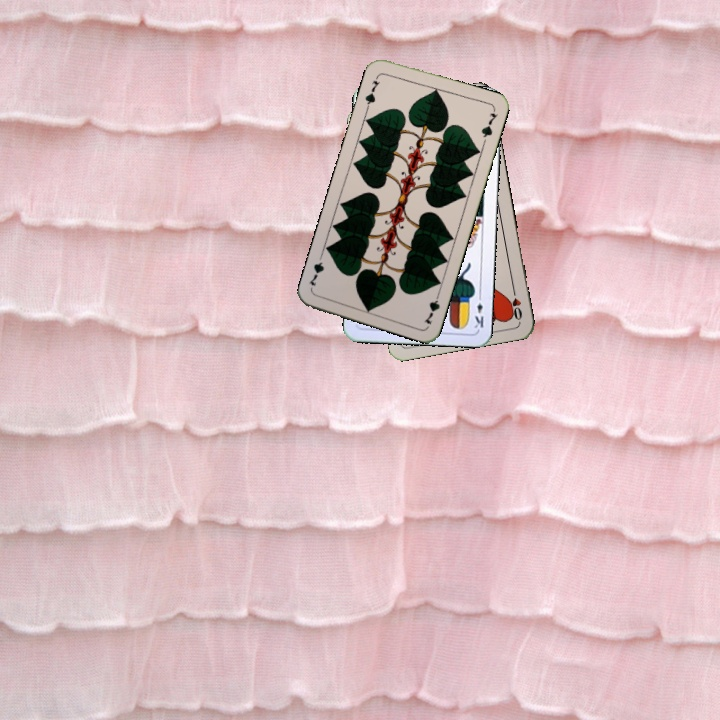EK: (471, 290, 486, 331)
G7: (420, 287, 443, 327), (361, 71, 383, 111)
HO: (506, 283, 525, 323)
